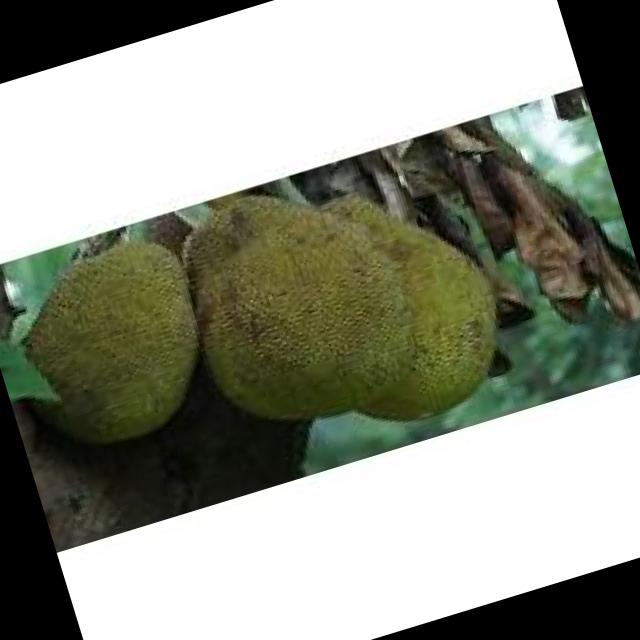Fruit: (152, 123, 556, 486), (0, 212, 241, 478)
